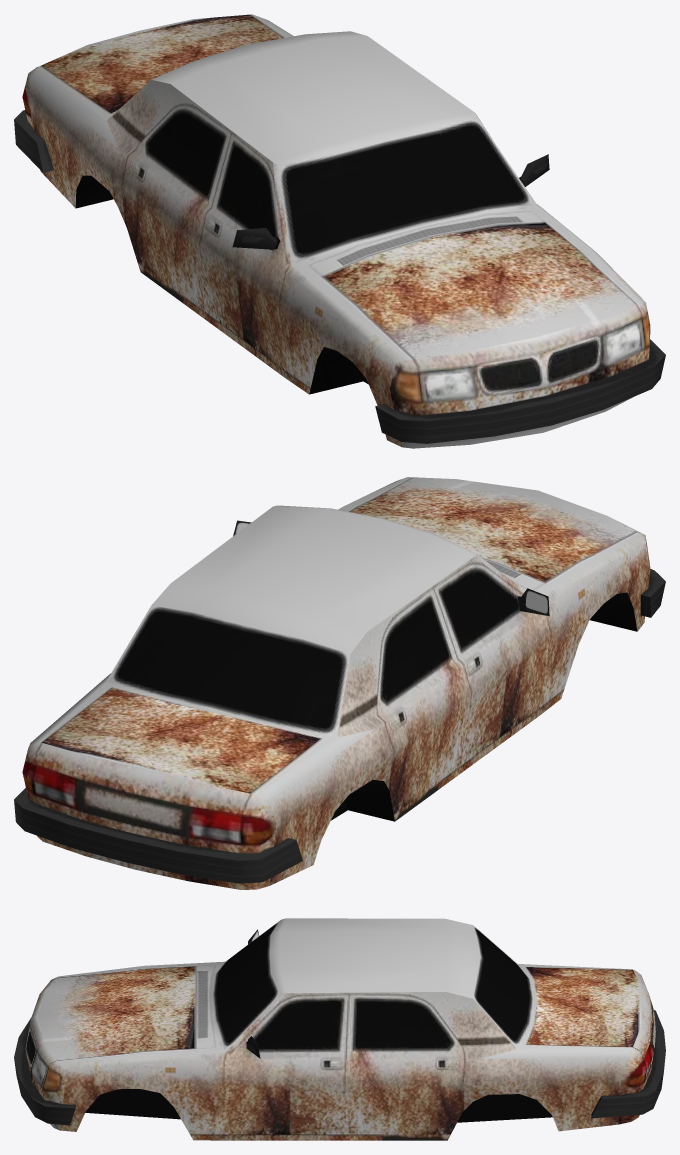
The model's file is rustsedan.glb.
The picture shows the model from 3 angles, top to bottom: view 1: azimuth 30°, elevation 25°; view 2: azimuth 150°, elevation 25°; view 3: azimuth 270°, elevation 25°; orthographic projection. The views are drawn at different scales.
Visible parts, largest first — view 1: Object_242; view 2: Object_242; view 3: Object_242.
Boxes of the visible parts, bbox=[...] form: Object_242: bbox=[14, 14, 665, 448]; Object_242: bbox=[14, 477, 665, 889]; Object_242: bbox=[14, 918, 665, 1140].
Size of the model in its own units: 2.01 by 1.15 by 4.71.
1 material, 1 textured.
